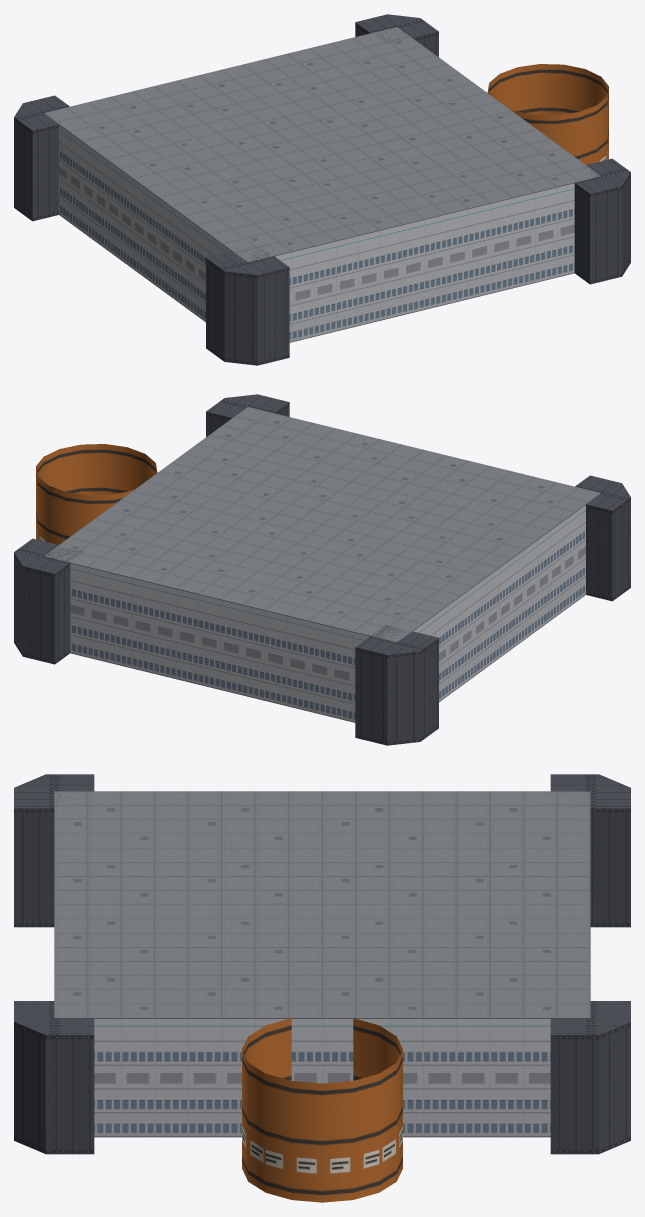
File: BLD_FLR_N_Silo_Mid.fbx
3 views of the same model, one above another, from view 1: azimuth 30°, elevation 25°; view 2: azimuth 150°, elevation 25°; view 3: azimuth 270°, elevation 25° (orthographic). The views are drawn at different scales.
Parts seen in each view (by area): view 1: BLD_FLR_N_Silo_Mid; view 2: BLD_FLR_N_Silo_Mid; view 3: BLD_FLR_N_Silo_Mid.
Part boxes in pixels (box(x1,y1,x2,y2)): BLD_FLR_N_Silo_Mid: box(14, 14, 630, 365); BLD_FLR_N_Silo_Mid: box(14, 394, 630, 745); BLD_FLR_N_Silo_Mid: box(14, 774, 630, 1202).
Bounding box in the file's own units: 136 × 24.5 × 115.
